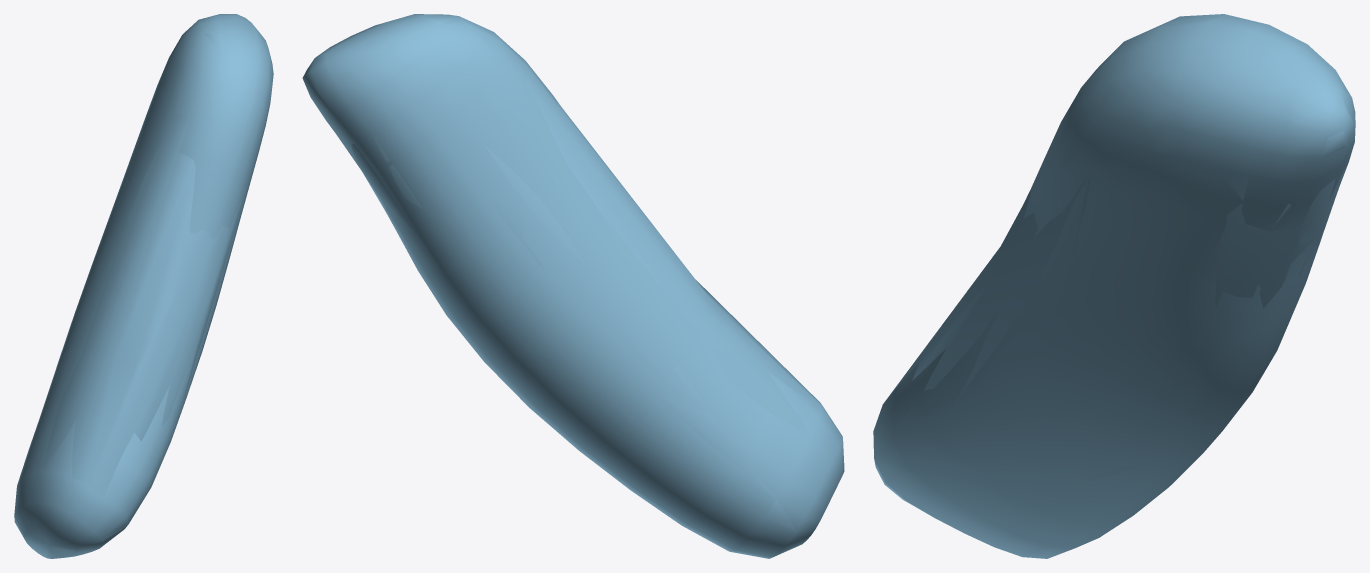
3 views of the same model, side by side, from view 1: azimuth 30°, elevation 25°; view 2: azimuth 150°, elevation 25°; view 3: azimuth 270°, elevation 25° (orthographic). The views are drawn at different scales.
Visible parts, largest first — view 1: CC L1, CC L1 low; view 2: CC L1, CC L1 low; view 3: CC L1, CC L1 low.
Part boxes in pixels (box(x1,y1,x2,y2)): CC L1: box(14, 14, 273, 558); CC L1 low: box(18, 23, 267, 548); CC L1: box(302, 14, 844, 558); CC L1 low: box(337, 16, 832, 543); CC L1: box(873, 14, 1355, 558); CC L1 low: box(876, 14, 1345, 500).
Size of the model in its own units: 5.14 by 6.48 by 4.02.
